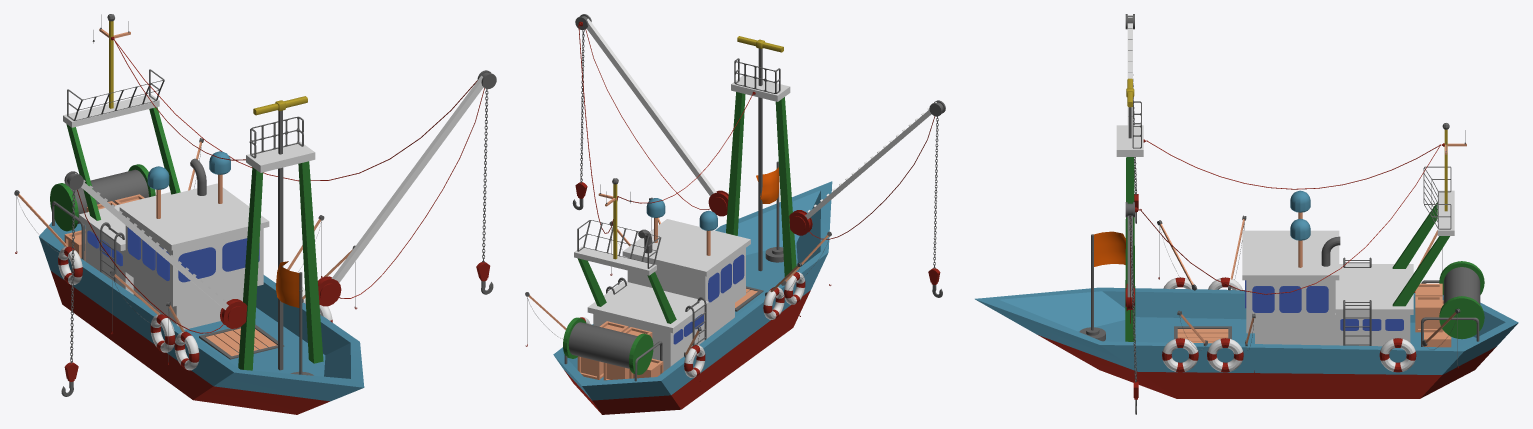
3 renders of one model, left to right at view 1: azimuth 30°, elevation 25°; view 2: azimuth 150°, elevation 25°; view 3: azimuth 270°, elevation 25°, orthographic. The views are drawn at different scales.
Visible parts, largest first — view 1: Cube, Cube001; view 2: Cube, Cube001; view 3: Cube, Cube001.
Part boxes in pixels (bbox=[...]): Cube: bbox=[14, 14, 496, 414]; Cube001: bbox=[276, 261, 299, 307]; Cube: bbox=[525, 14, 945, 414]; Cube001: bbox=[756, 167, 779, 203]; Cube: bbox=[975, 14, 1518, 414]; Cube001: bbox=[1094, 231, 1125, 266].
Bounding box in the file's own units: 34.32 × 22.85 × 40.17.
